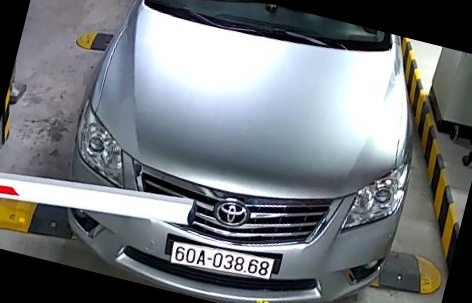plate: (166, 227, 277, 293)
